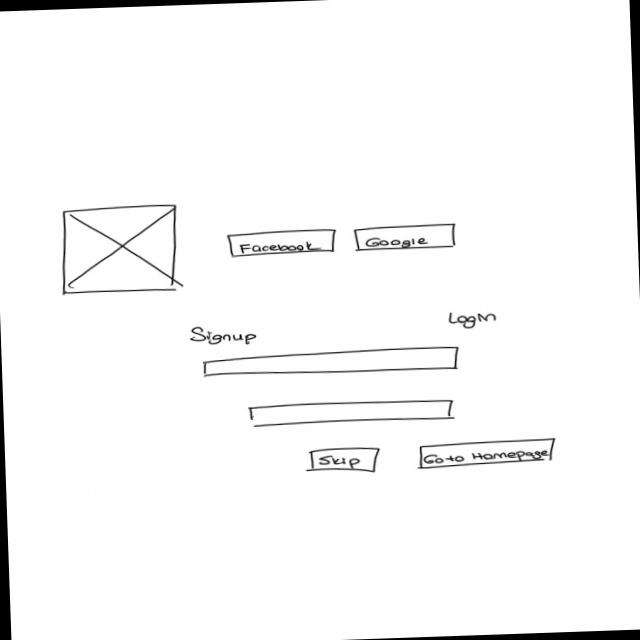button: (415, 436, 560, 471), (226, 228, 340, 259), (353, 223, 459, 254), (309, 445, 383, 476)
image: (57, 204, 183, 297)
input: (201, 345, 462, 381), (248, 398, 459, 428)
label: (188, 325, 261, 349), (448, 309, 501, 330)
